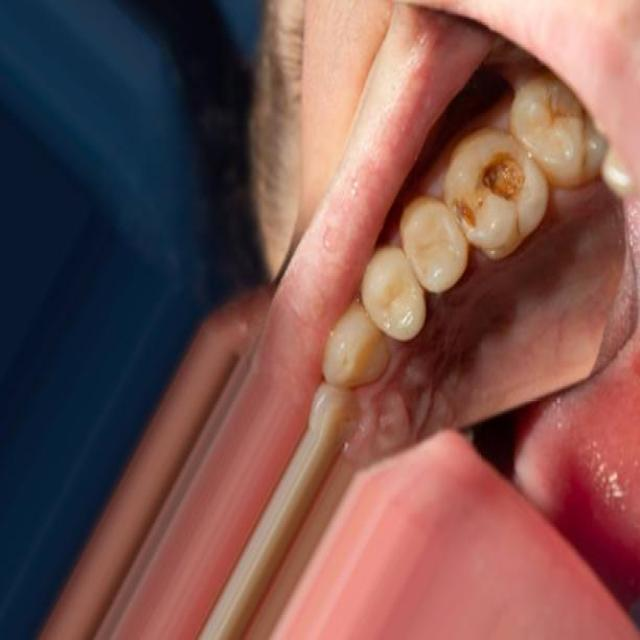caries: (452, 133, 541, 258)
